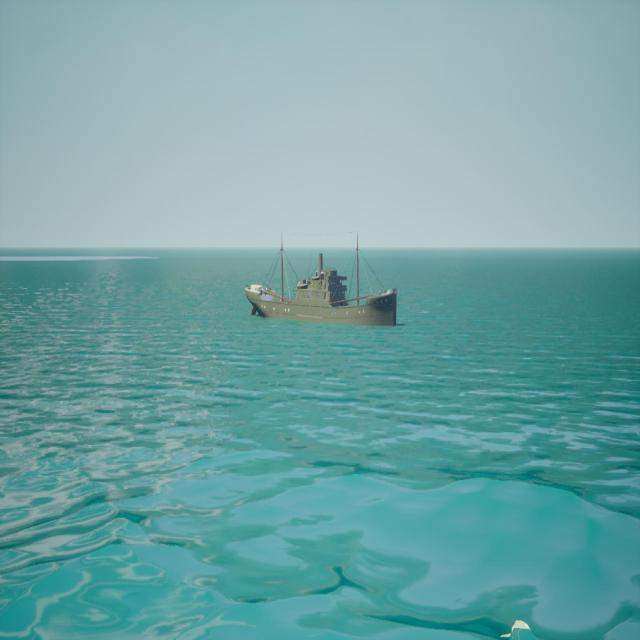fishing ship: (246, 233, 399, 328)
